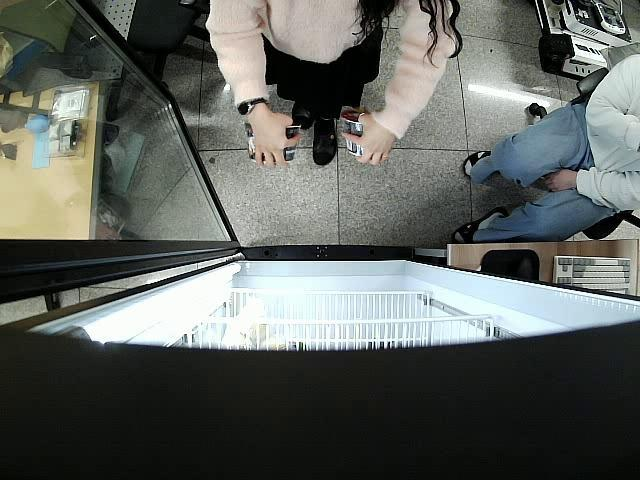07_buldak_L: (245, 123, 300, 160), (336, 113, 364, 156)
